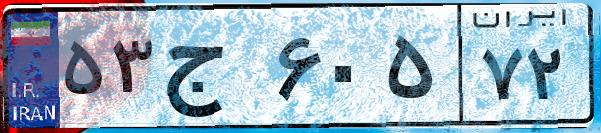0: (330, 28, 385, 110)
2: (525, 38, 570, 115)
3: (110, 28, 158, 98)
5: (385, 28, 445, 110), (57, 26, 110, 100)
6: (270, 28, 330, 110)
7: (475, 38, 525, 113)
ج: (158, 20, 270, 120)
